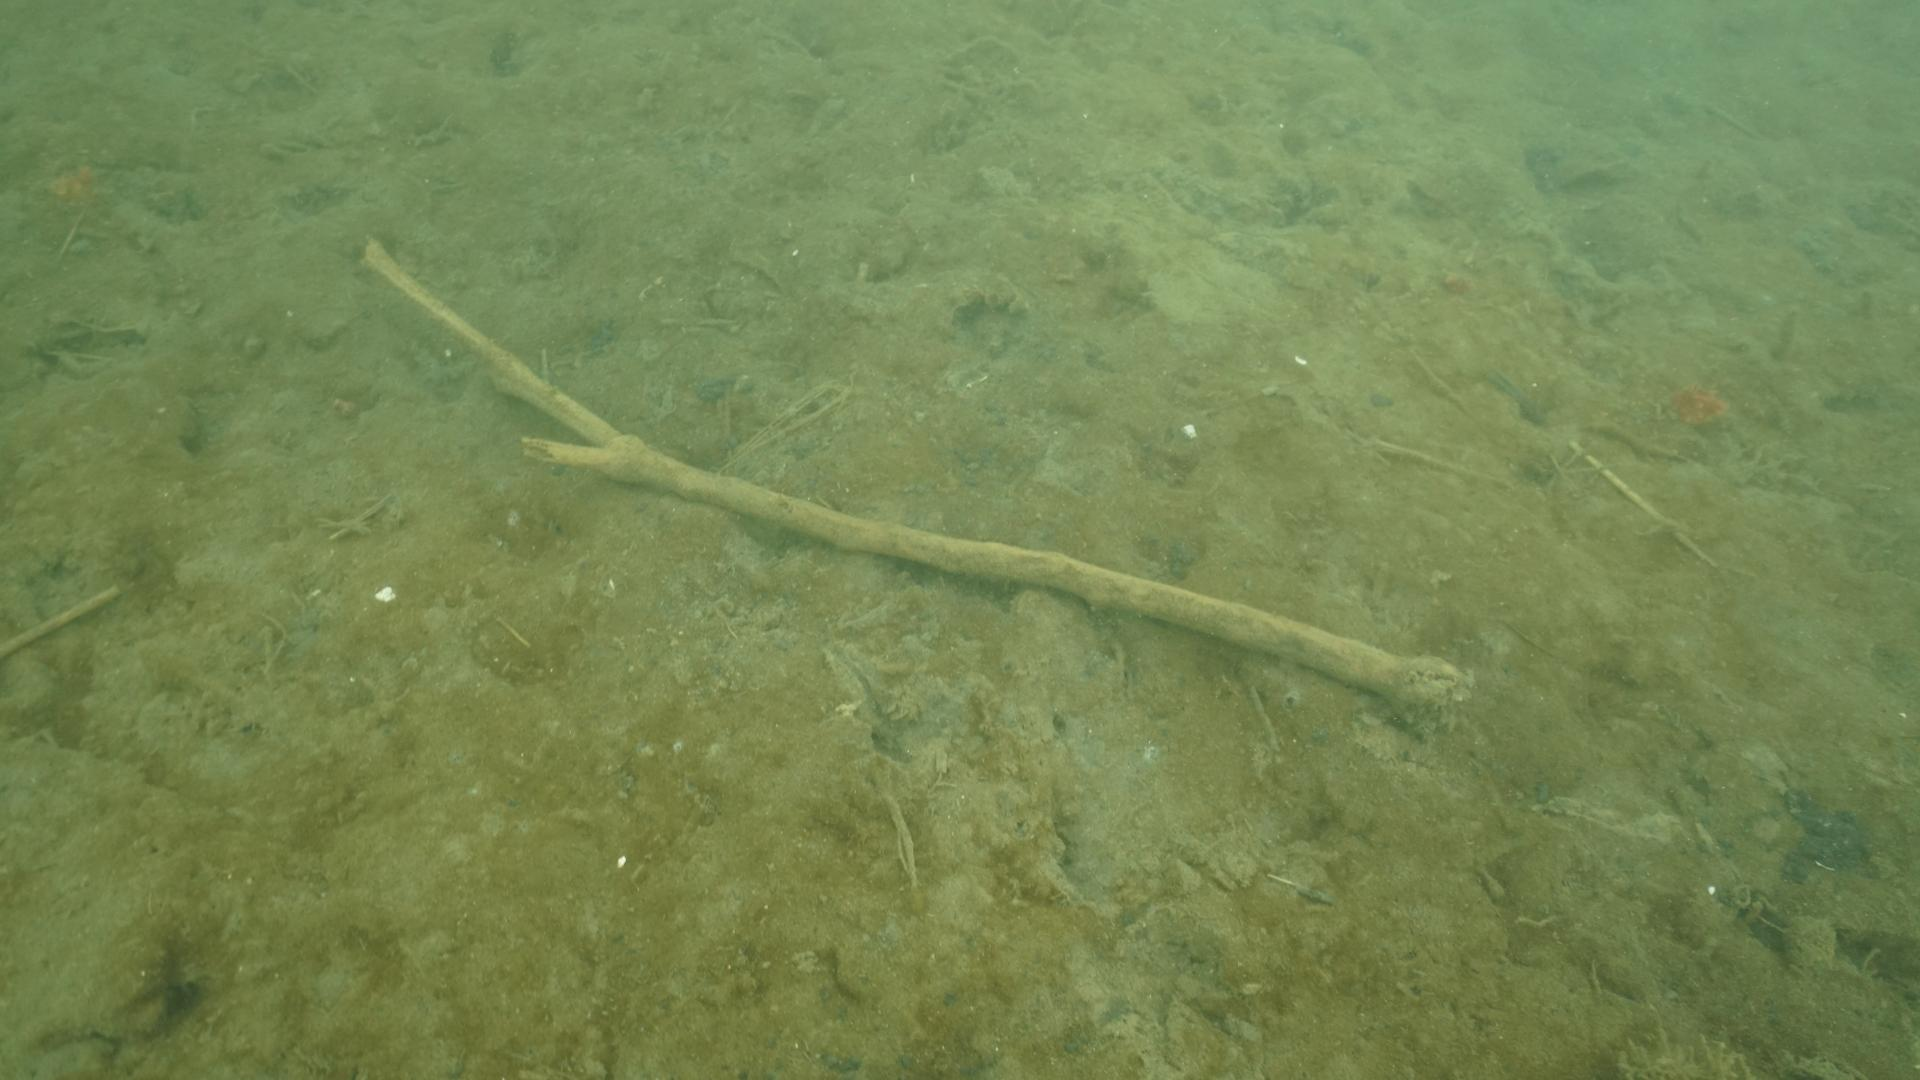wood: (361, 244, 1466, 708)
